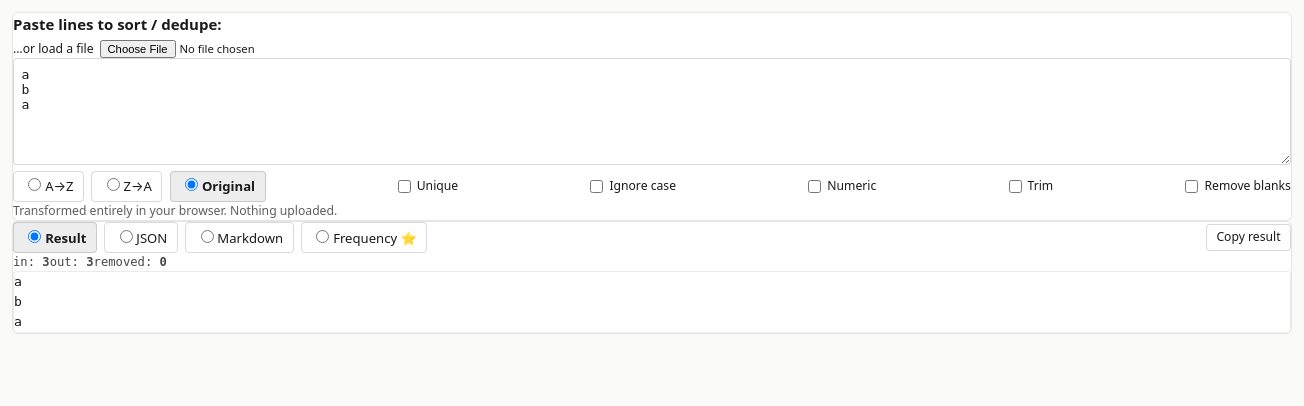
SortApp › dedupes when Unique is toggled
Click the checkbox with test id "sort-unique". click: (404, 186)
box: [398,180,411,193]
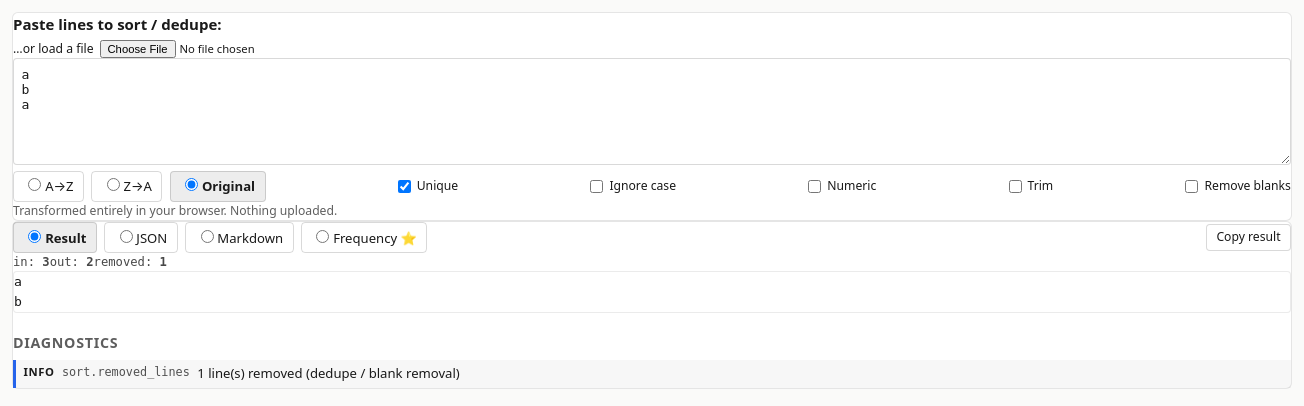
Now the text with test id "sort-stat-removed" reads "1", box [160,255,167,269]
